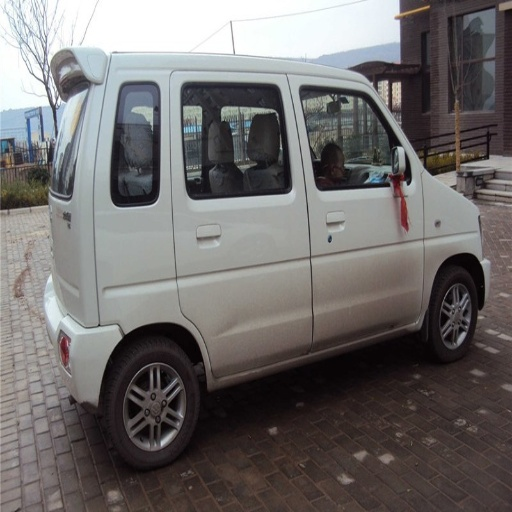trunk: (62, 205, 163, 297)
